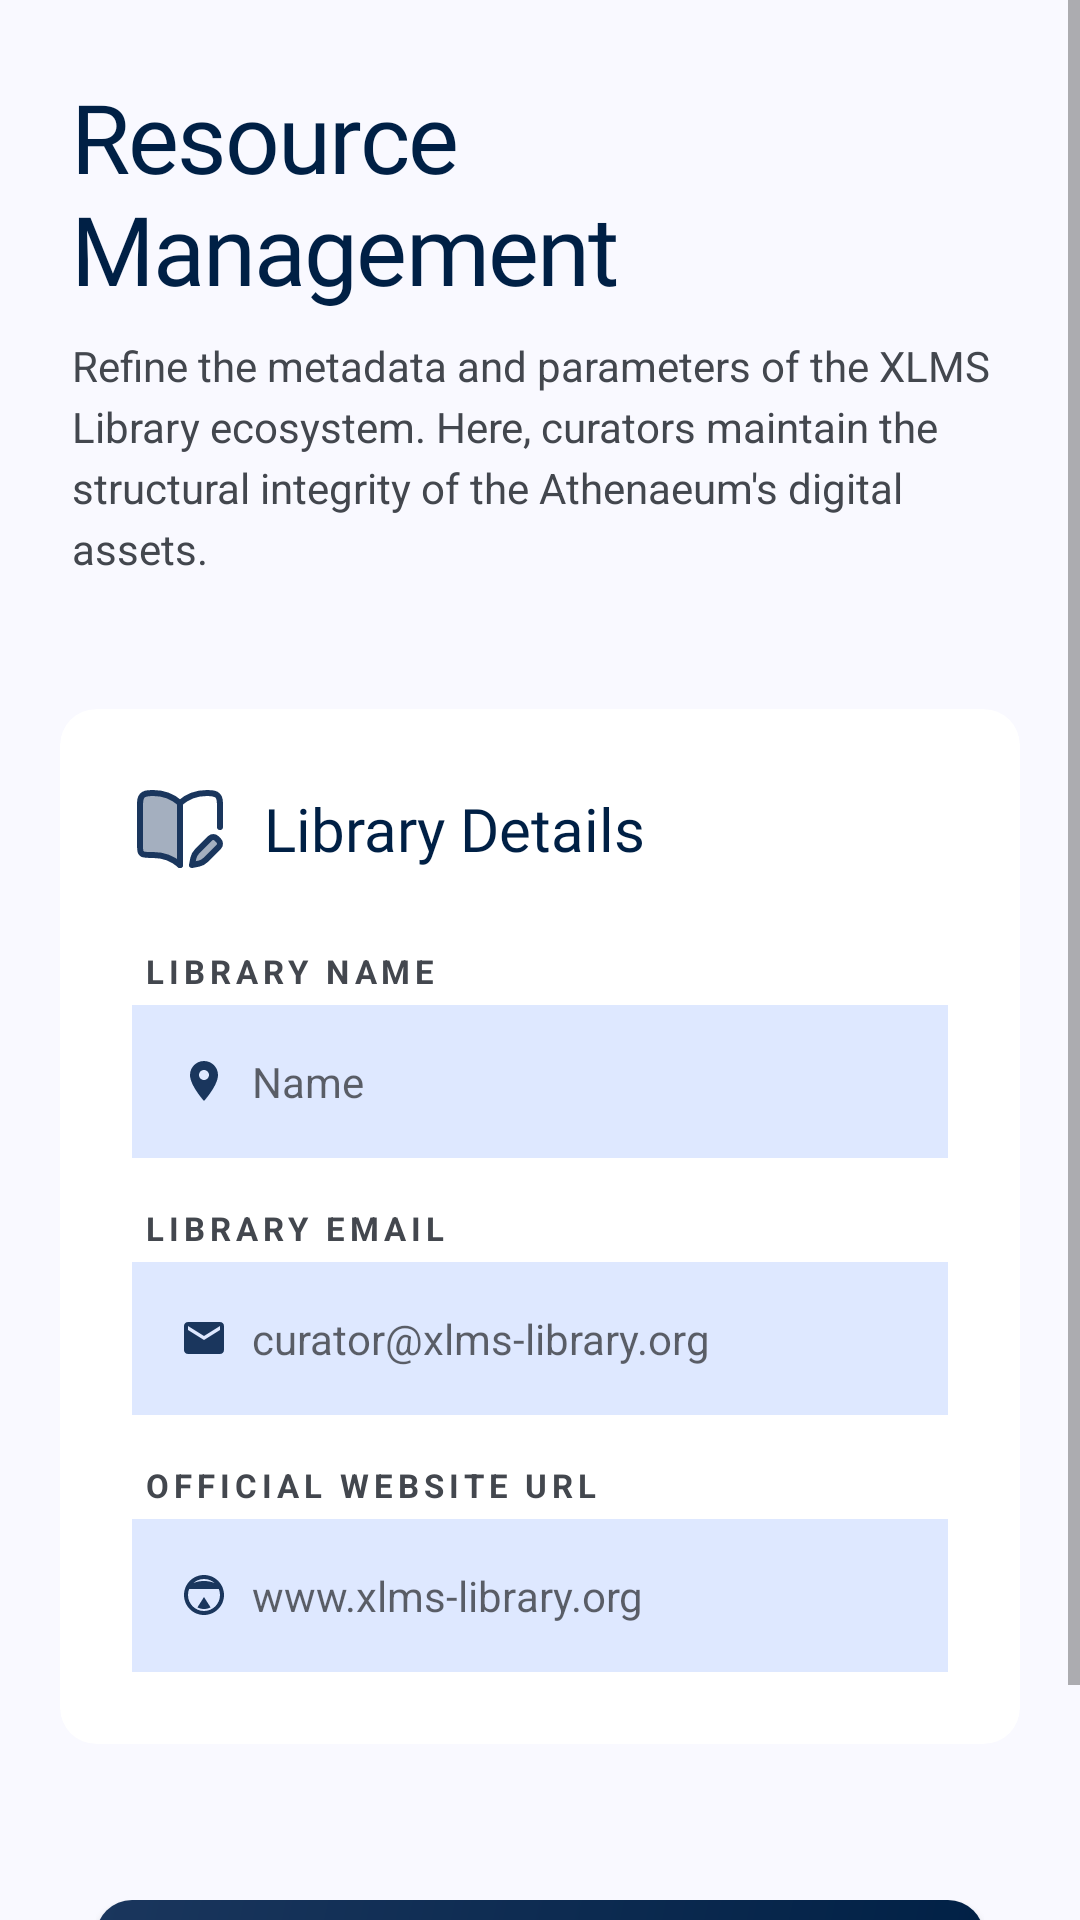

Named icons in this screenshot (1080×1920) and their centers, point (x, y):
book: point (180, 829)
